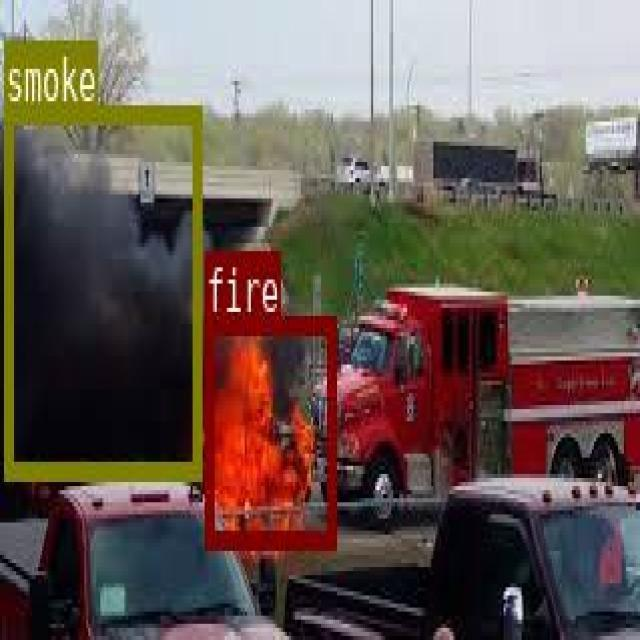fire: (204, 315, 334, 545)
smoke: (3, 103, 200, 475)
